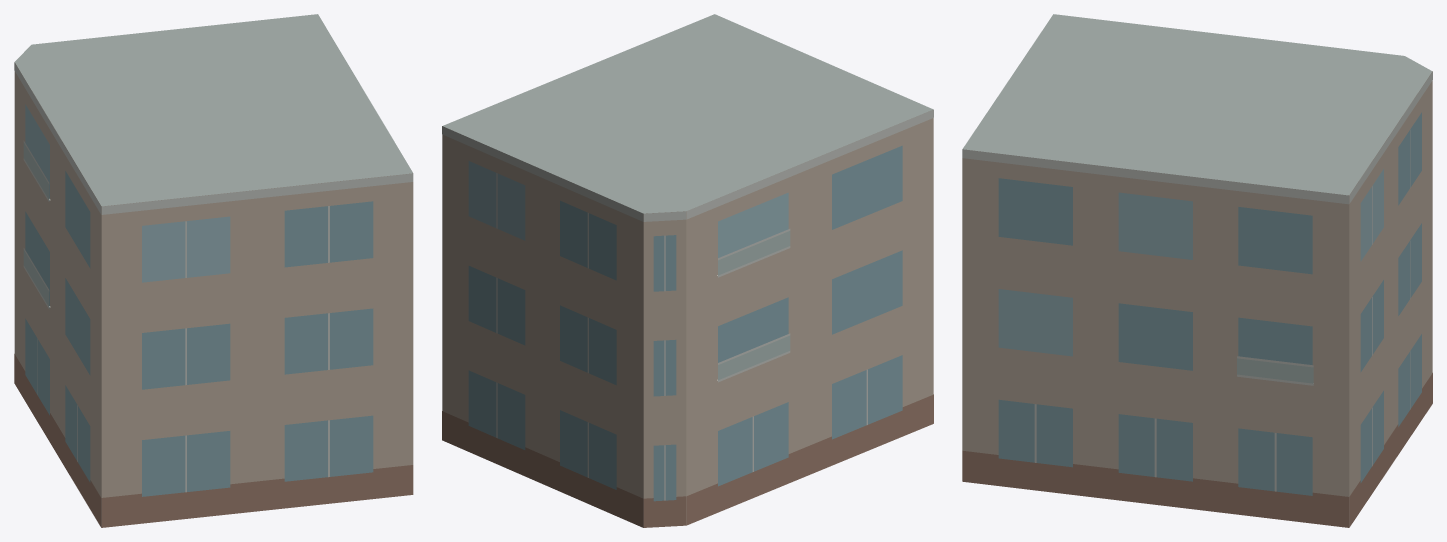
The model's file is survey-upis-32806842.glb.
3 renders of one model, left to right at view 1: azimuth 30°, elevation 25°; view 2: azimuth 150°, elevation 25°; view 3: azimuth 270°, elevation 25°, orthographic. The views are drawn at different scales.
Parts seen in each view (by area): view 1: survey-upis-32806842.tmp; view 2: survey-upis-32806842.tmp; view 3: survey-upis-32806842.tmp.
Boxes of the visible parts, x1,y1,x2,y2 form: survey-upis-32806842.tmp: (14,14,413,527); survey-upis-32806842.tmp: (442,14,933,527); survey-upis-32806842.tmp: (962,14,1432,527).
Size of the model in its own units: 10.72 by 9.15 by 11.74.
